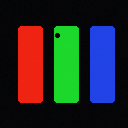0 point: (55, 33, 59, 37)
